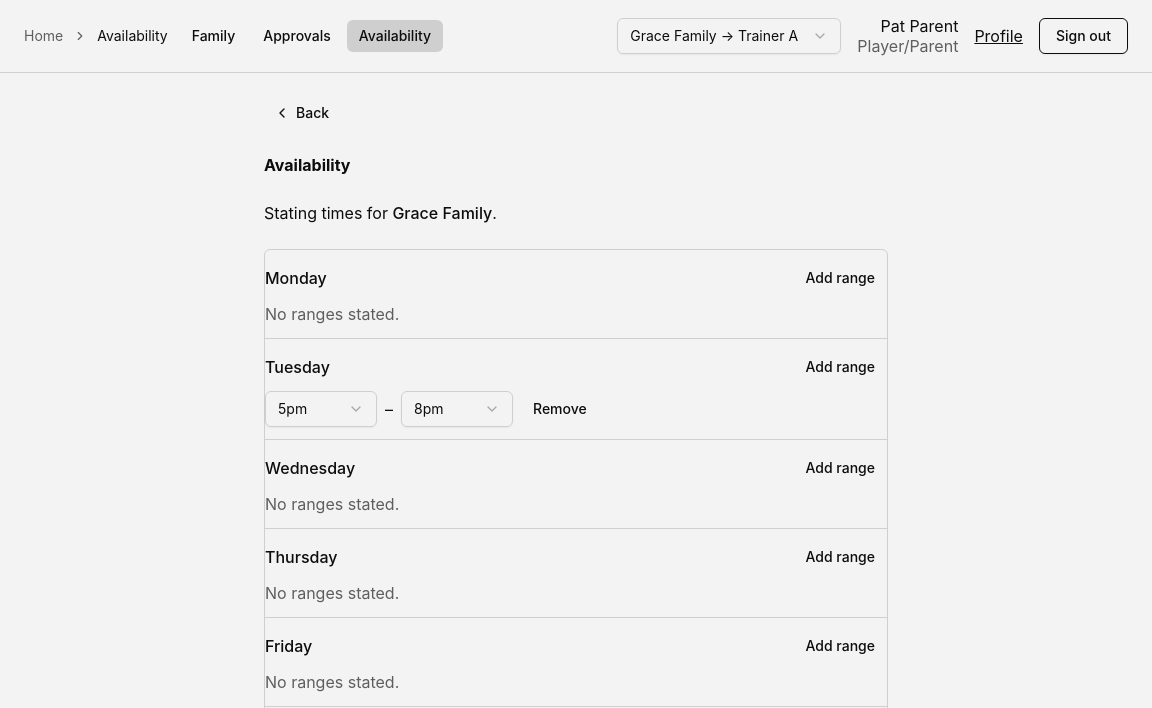
AvailabilityPage › switching profiles switches the week that loads
Check: the text "Grace Family" is shown, box [392,203,492,223]
Click the dropdown named "switch trainer" at point(729, 36), box [617,18,841,54]
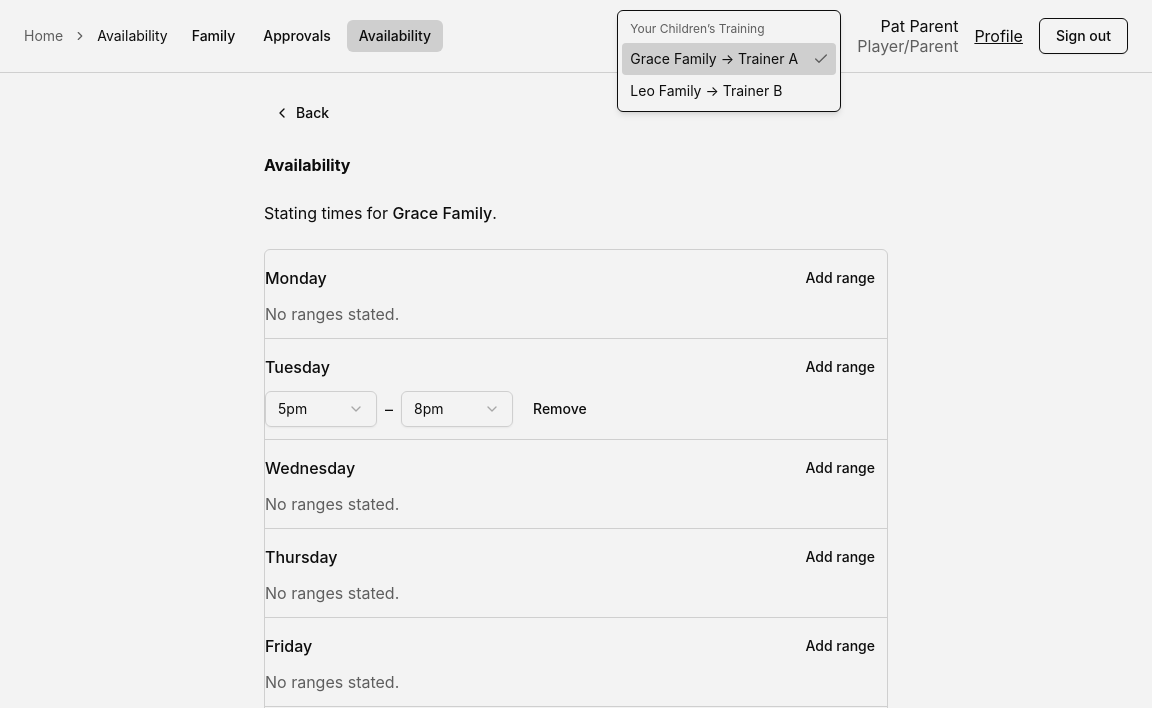
Click the option "Leo Family → Trainer B" at point(706, 90), box [630,82,782,99]
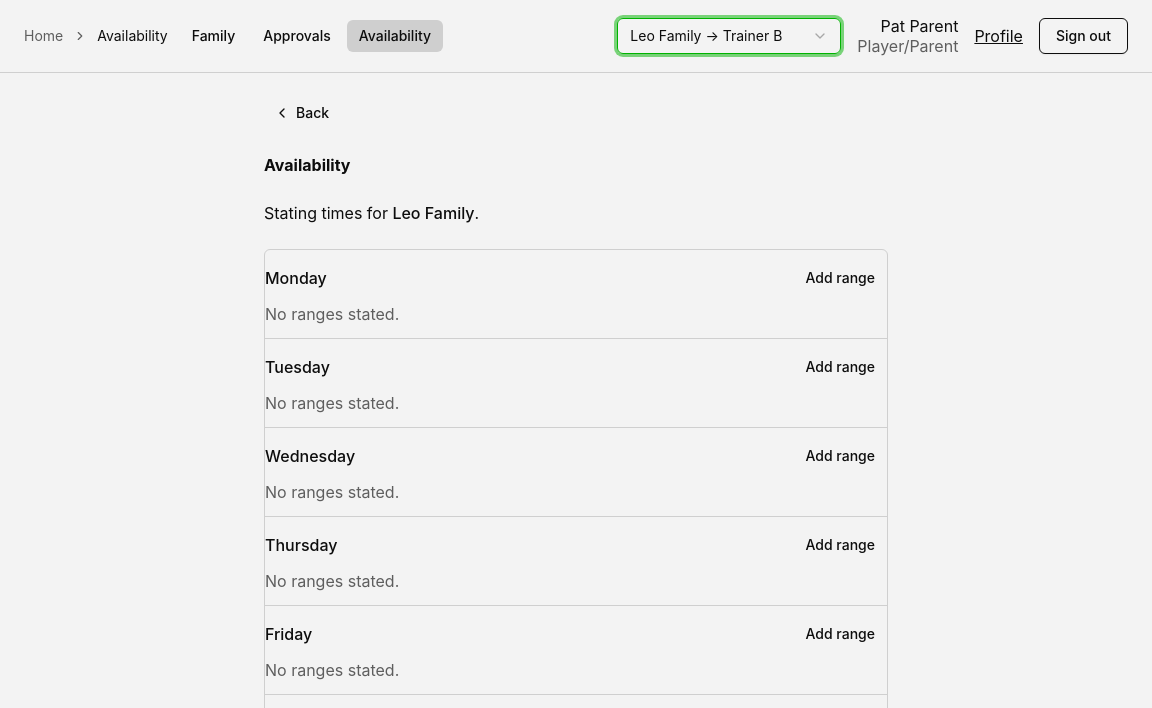
Check: the text with test id "availability-active-profile" reads "Leo Family", box [392,203,474,223]
